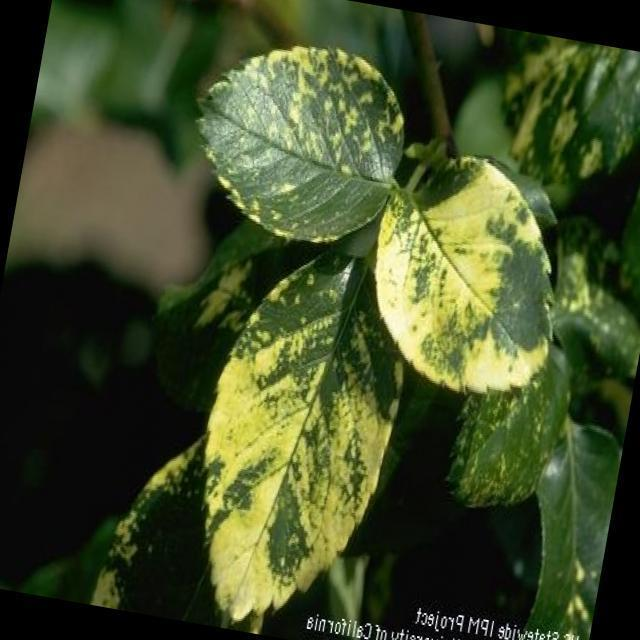Mosaic Virus: (190, 259, 417, 614), (368, 146, 580, 379), (208, 44, 406, 225), (499, 31, 640, 197)
